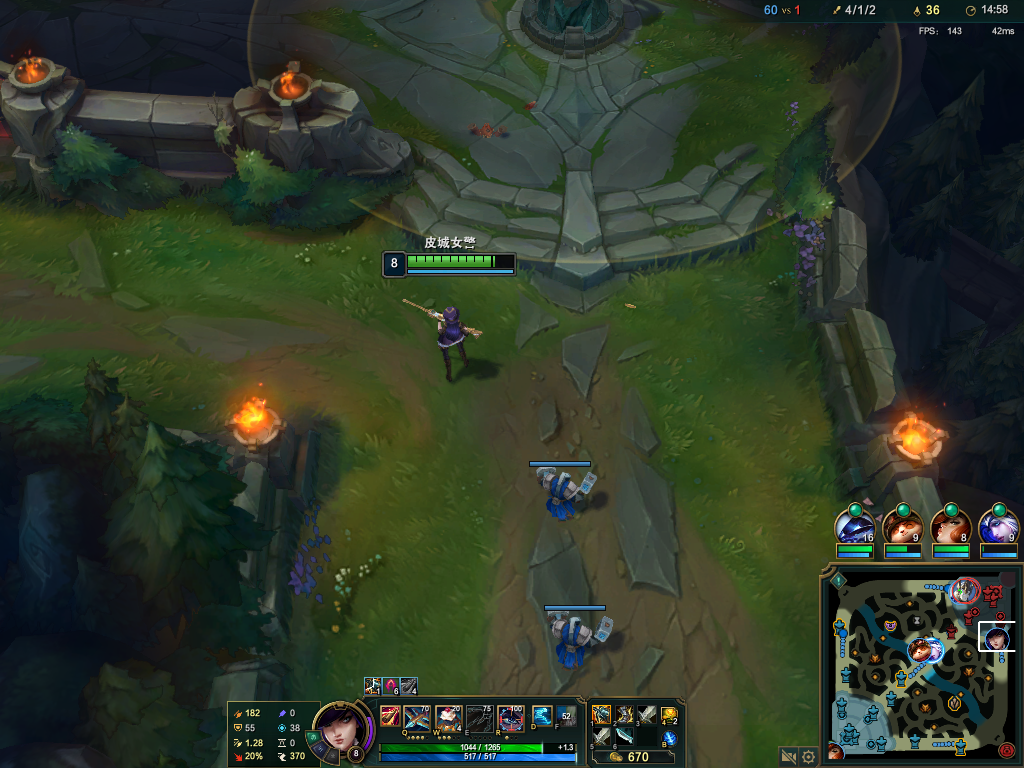DFFYT: (530, 6, 624, 48)
WFXB: (539, 468, 589, 516), (558, 621, 596, 663)
